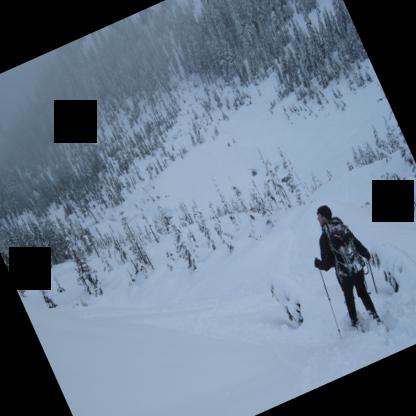backpack: (321, 216, 365, 285)
